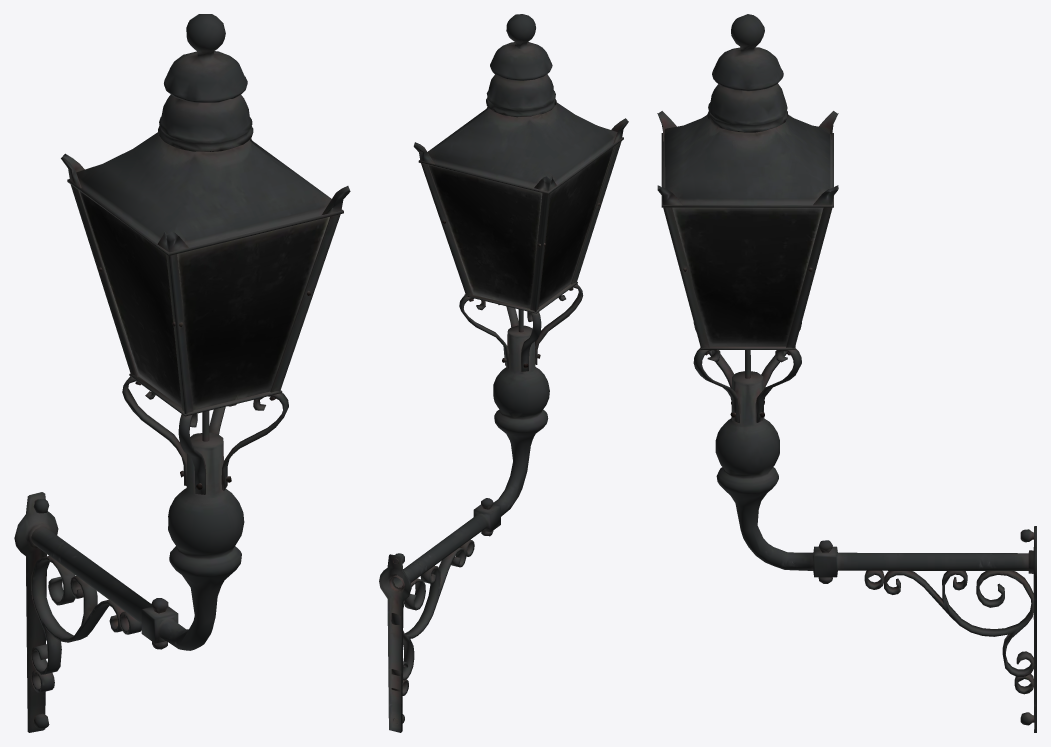
Rendered from street_lamp_02.glb.
3 renders of one model, left to right at view 1: azimuth 30°, elevation 25°; view 2: azimuth 150°, elevation 25°; view 3: azimuth 270°, elevation 25°, orthographic. The views are drawn at different scales.
Parts seen in each view (by area): view 1: street_lamp_02; view 2: street_lamp_02; view 3: street_lamp_02.
Part boxes in pixels (bbox=[...]): street_lamp_02: bbox=[14, 14, 350, 732]; street_lamp_02: bbox=[379, 14, 628, 732]; street_lamp_02: bbox=[657, 14, 1036, 732].
Size of the model in its own units: 0.3849 by 1.67 by 0.8061.
Materials: 2 (2 with a texture image).
